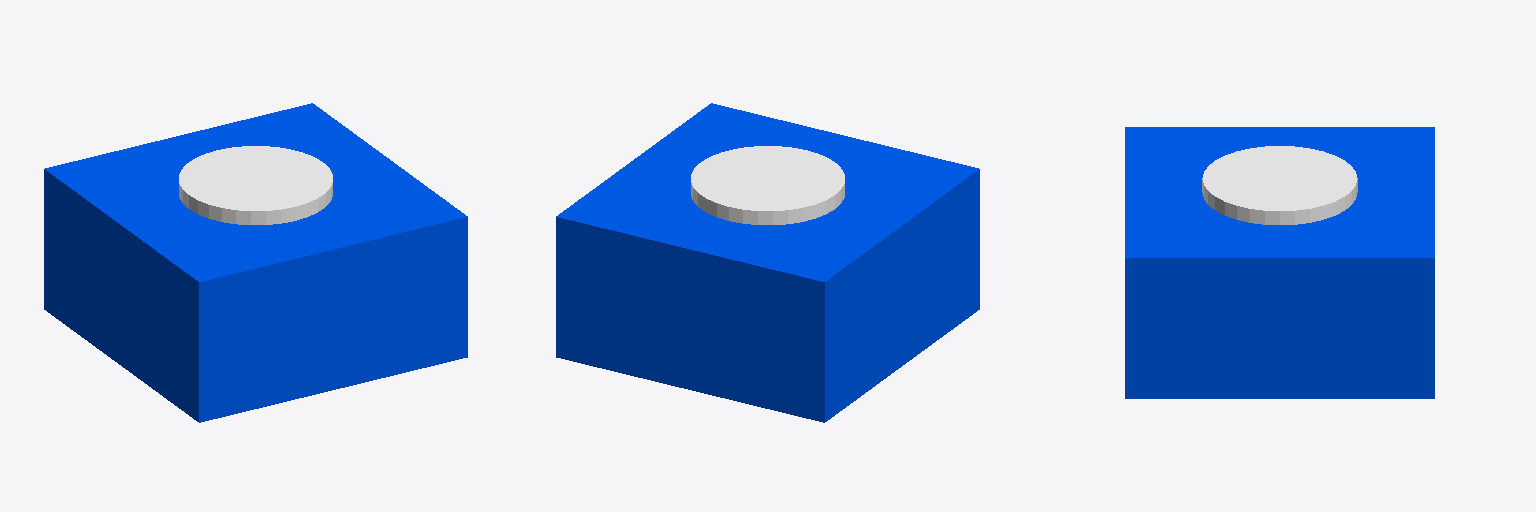
File: TrimPot.obj
The picture shows the model from 3 angles: view 1: azimuth 30°, elevation 25°; view 2: azimuth 150°, elevation 25°; view 3: azimuth 270°, elevation 25°; orthographic projection.
Parts seen in each view (by area): view 1: Cube, Cylinder; view 2: Cube, Cylinder; view 3: Cube, Cylinder.
Part boxes in pixels (x1,y1,x2,y2): Cube: (44,103,467,422); Cylinder: (179,146,332,224); Cube: (556,103,979,422); Cylinder: (691,146,844,224); Cube: (1125,127,1434,398); Cylinder: (1202,146,1357,224).
Size of the model in its own units: 2 by 1.1 by 2.